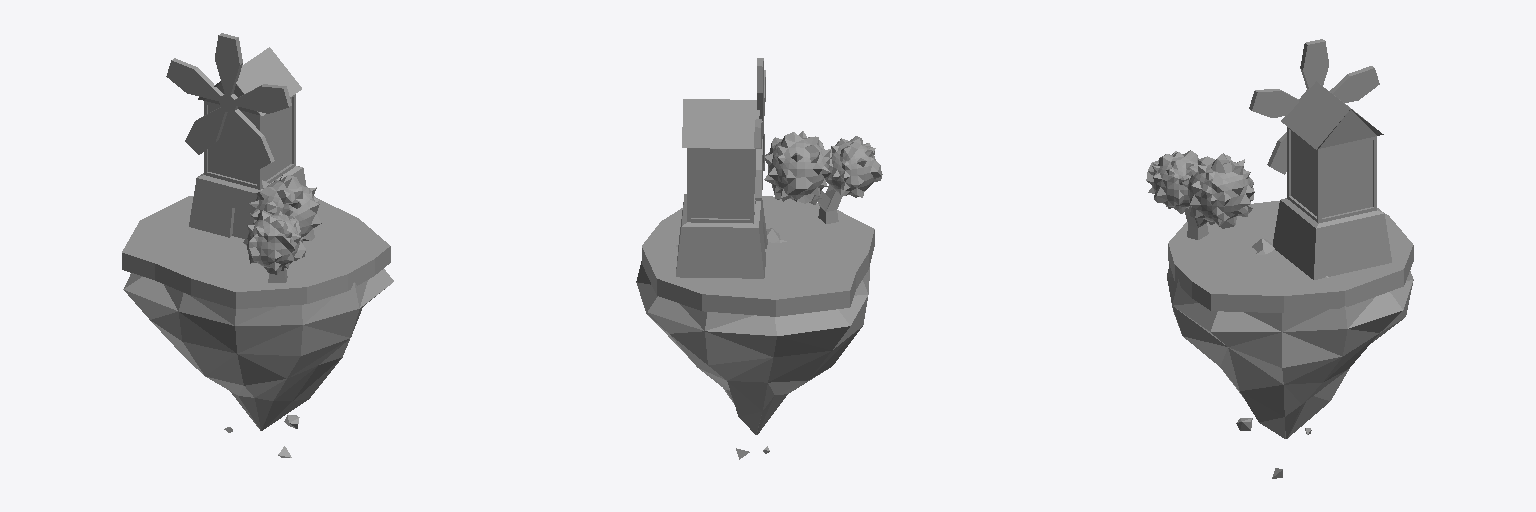
Rendered from windmill2.obj.
3 views of the same model, side by side, from view 1: azimuth 30°, elevation 25°; view 2: azimuth 150°, elevation 25°; view 3: azimuth 270°, elevation 25° (orthographic).
Size of the model in its own units: 105 by 195 by 113.